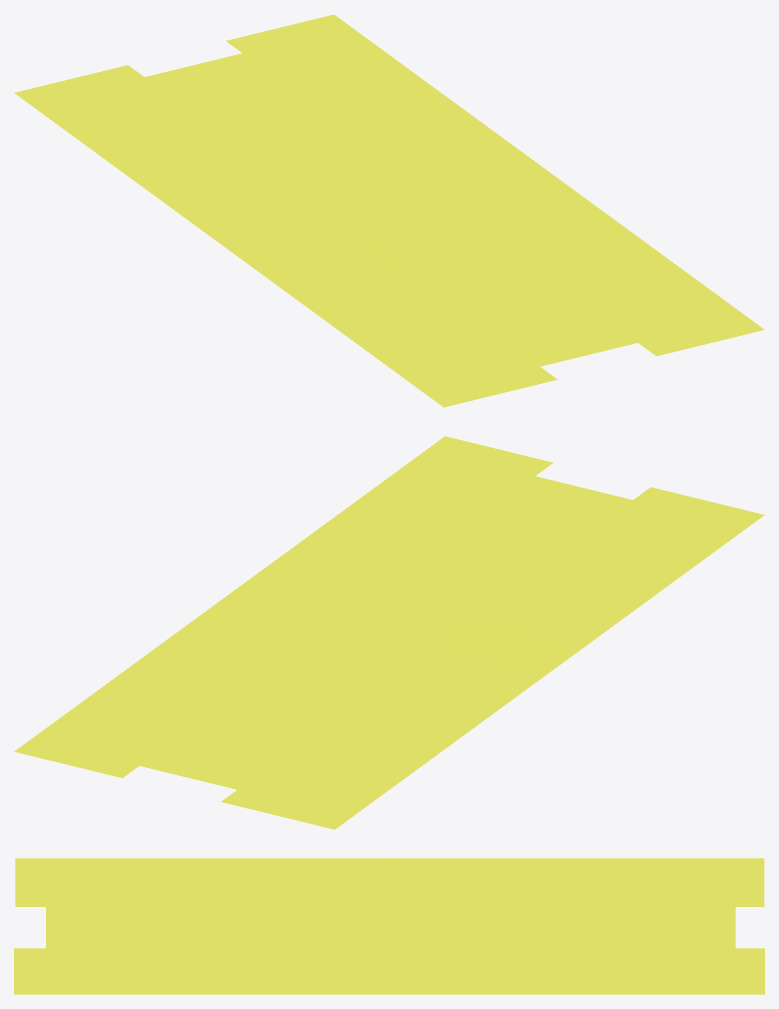
Rendered from Open Dag Map Building Left.fbx.
3 renders of one model, top to bottom at view 1: azimuth 30°, elevation 25°; view 2: azimuth 150°, elevation 25°; view 3: azimuth 270°, elevation 25°, orthographic. The views are drawn at different scales.
Visible parts, largest first — view 1: Building Left; view 2: Building Left; view 3: Building Left.
Part boxes in pixels (x1,y1,x2,y2): Building Left: (14, 14, 764, 407); Building Left: (14, 436, 764, 829); Building Left: (14, 858, 764, 994).
Size of the model in its own units: 138 by 0.5055 by 321.
